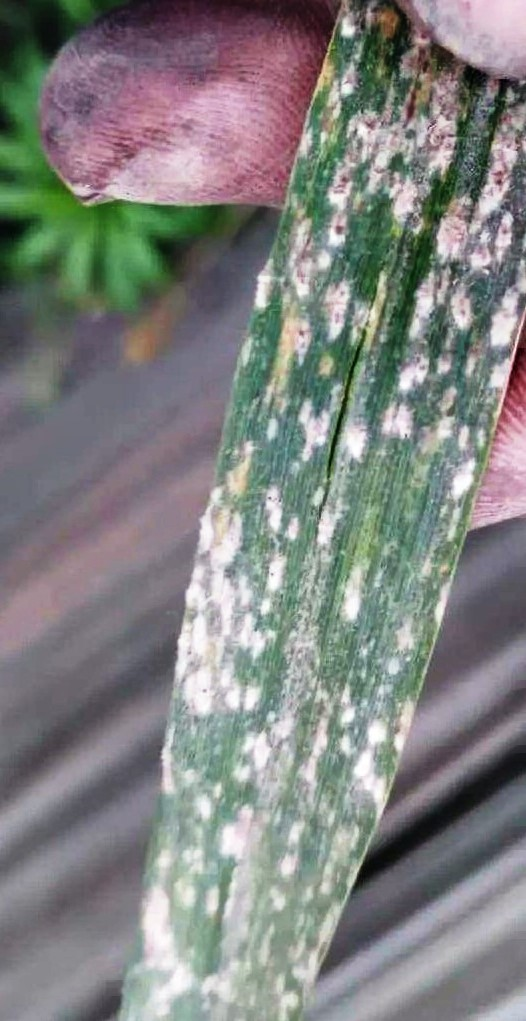Powdery Mildew: (159, 83, 526, 926)
